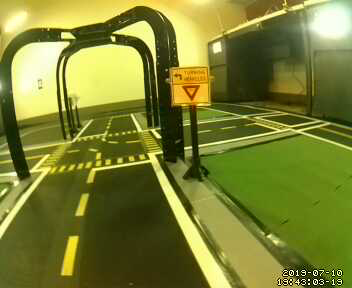Turn Yield: (169, 65, 211, 111)
